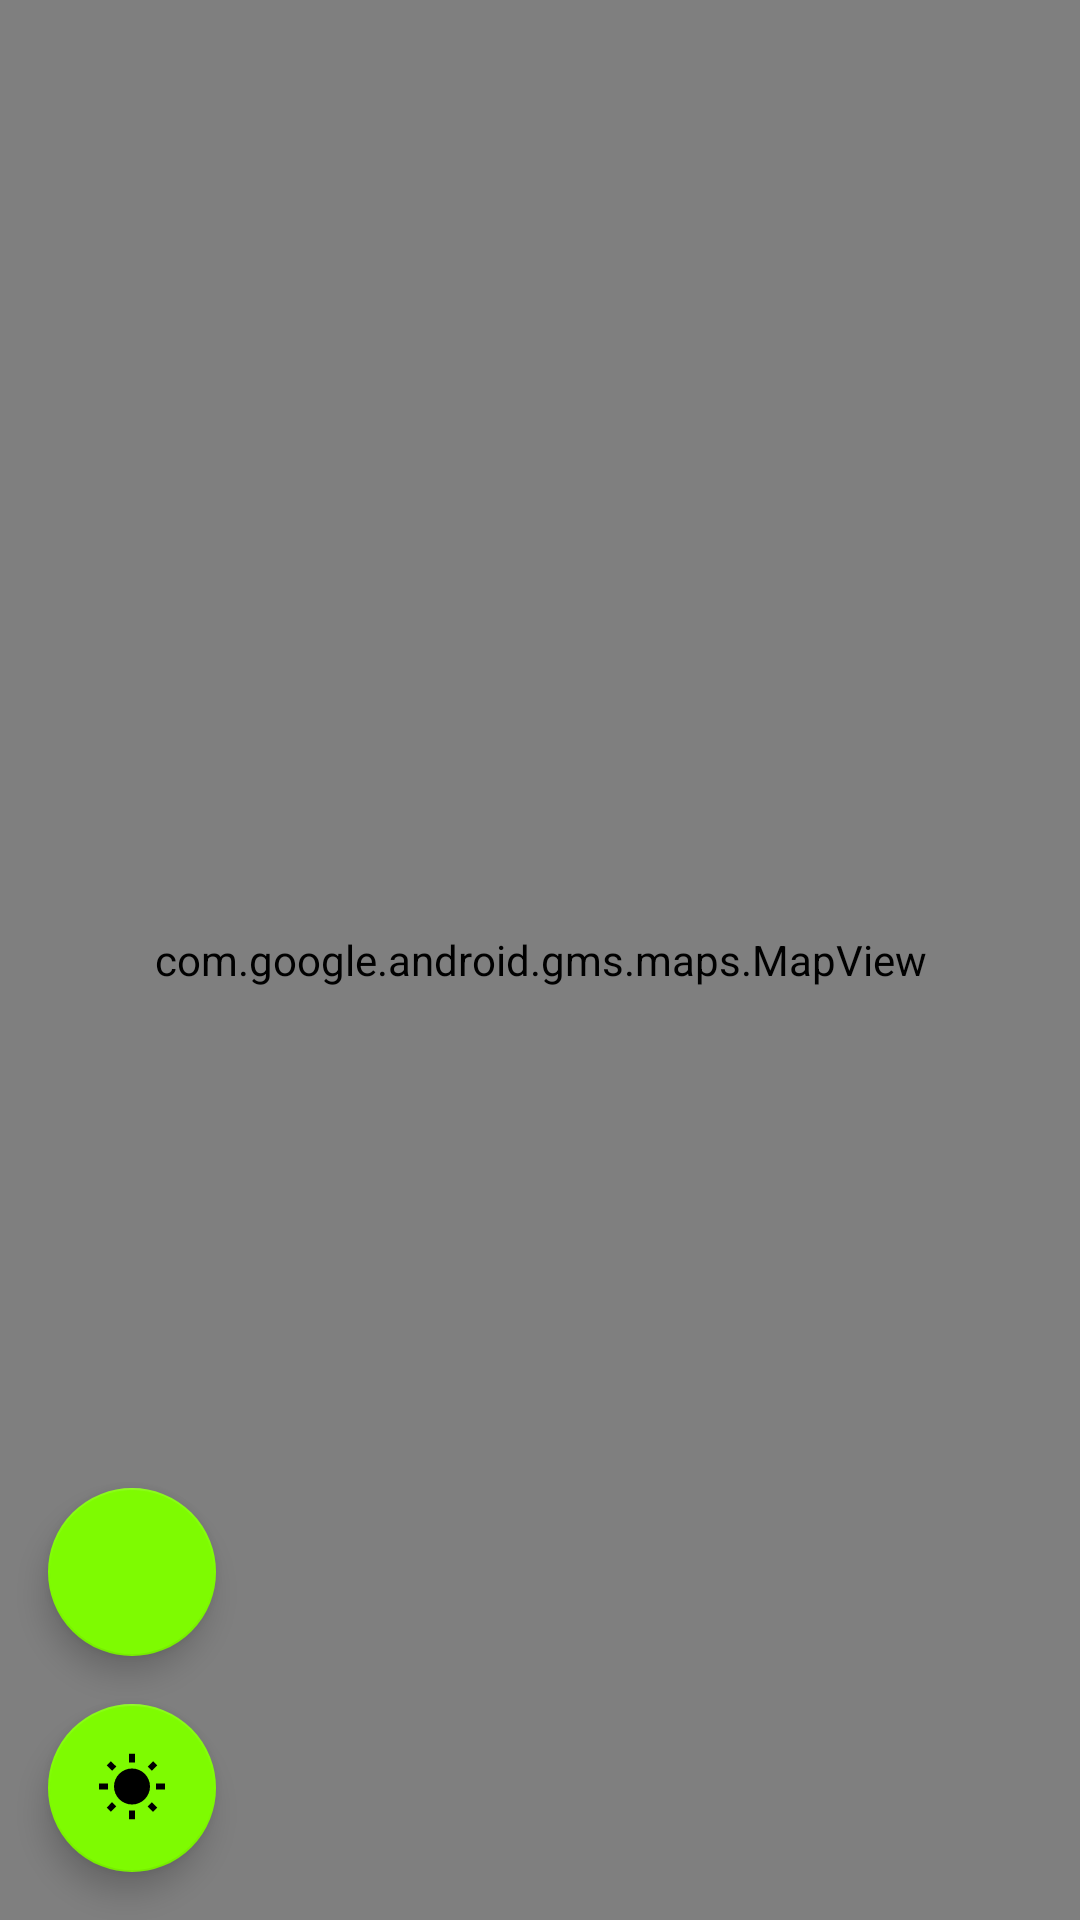

Locate icon controls on the screen. Image size 1080w x 1920h, boxes as (x1, y1, x2, y2).
sunny: (48, 1704, 216, 1872)
